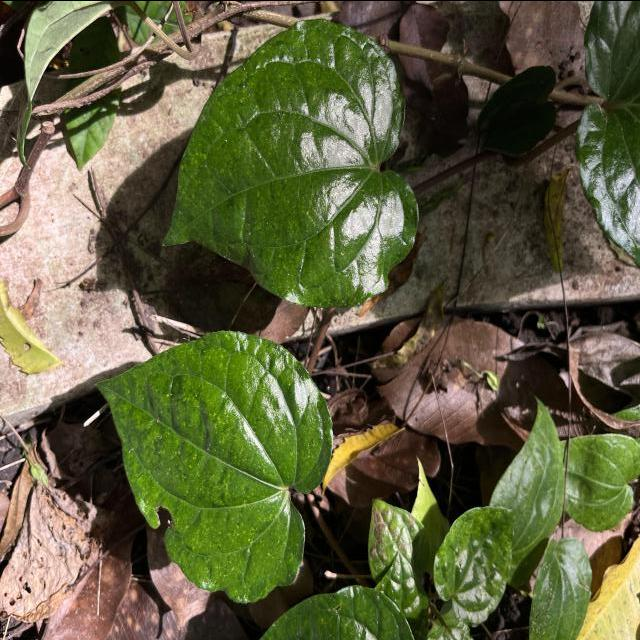Piper betle: (159, 14, 424, 310), (91, 325, 338, 607)
